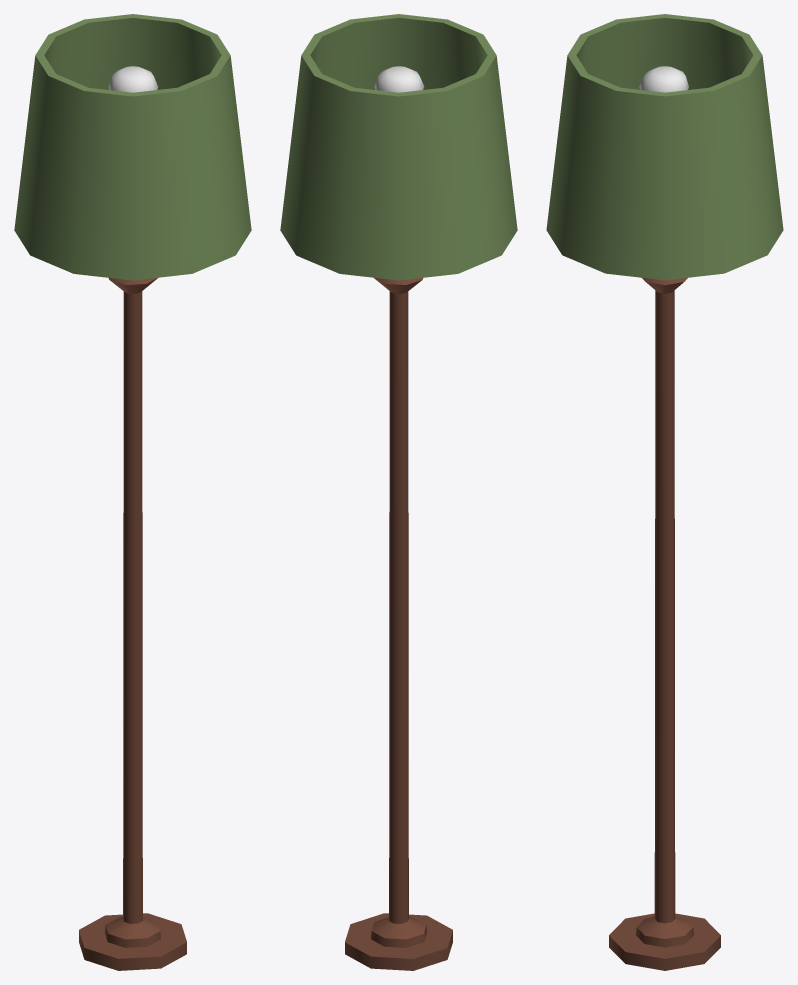
The model's file is StandingLamp_01.fbx.
The picture shows the model from 3 angles, left to right: view 1: azimuth 30°, elevation 25°; view 2: azimuth 150°, elevation 25°; view 3: azimuth 270°, elevation 25°; orthographic projection.
Visible parts, largest first — view 1: StandingLamp_01; view 2: StandingLamp_01; view 3: StandingLamp_01.
Part boxes in pixels (x1,y1,x2,y2): StandingLamp_01: [14, 14, 251, 970]; StandingLamp_01: [280, 14, 517, 970]; StandingLamp_01: [546, 14, 783, 970].
Size of the model in its own units: 0.3305 by 1.37 by 0.3305.
